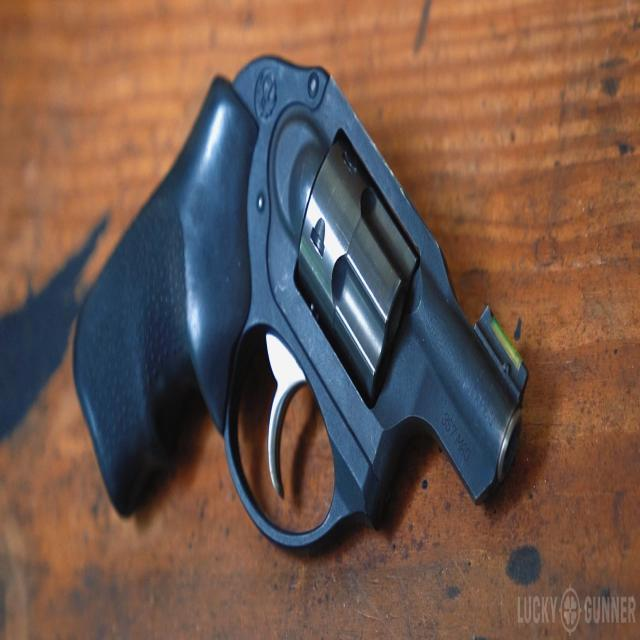HandGun: (65, 56, 529, 555)
